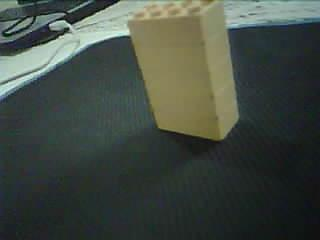lego: (124, 1, 240, 142)
